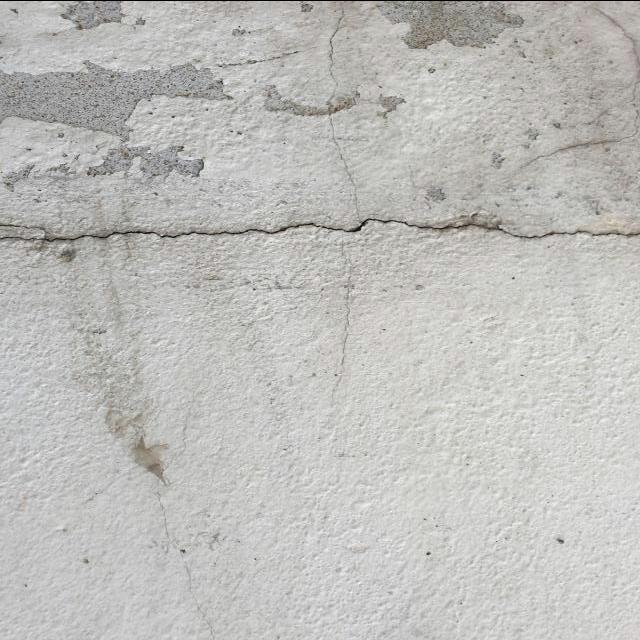SurfaceCrack: (0, 176, 639, 294)
